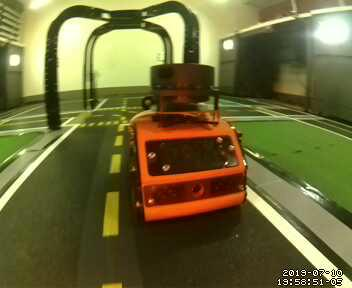pheeno: (121, 63, 250, 225)
